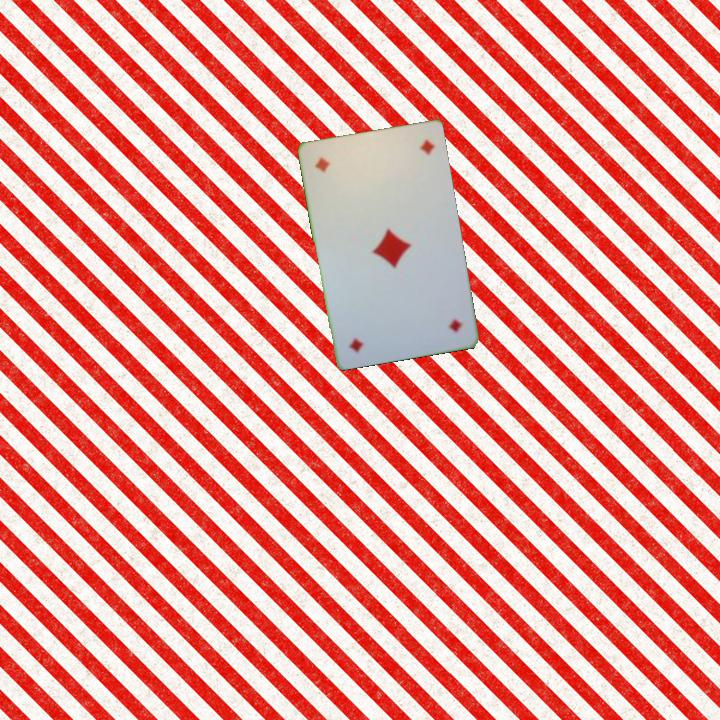d_a.png: (394, 281, 469, 349), (308, 140, 383, 208)
